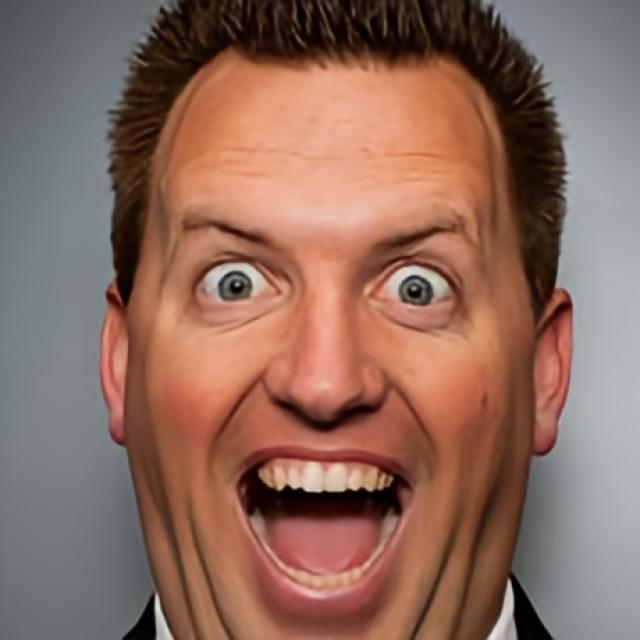surprise: (122, 48, 536, 640)
